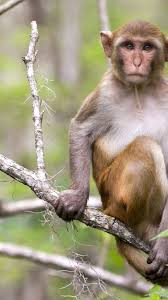monkey: (17, 10, 164, 274)
